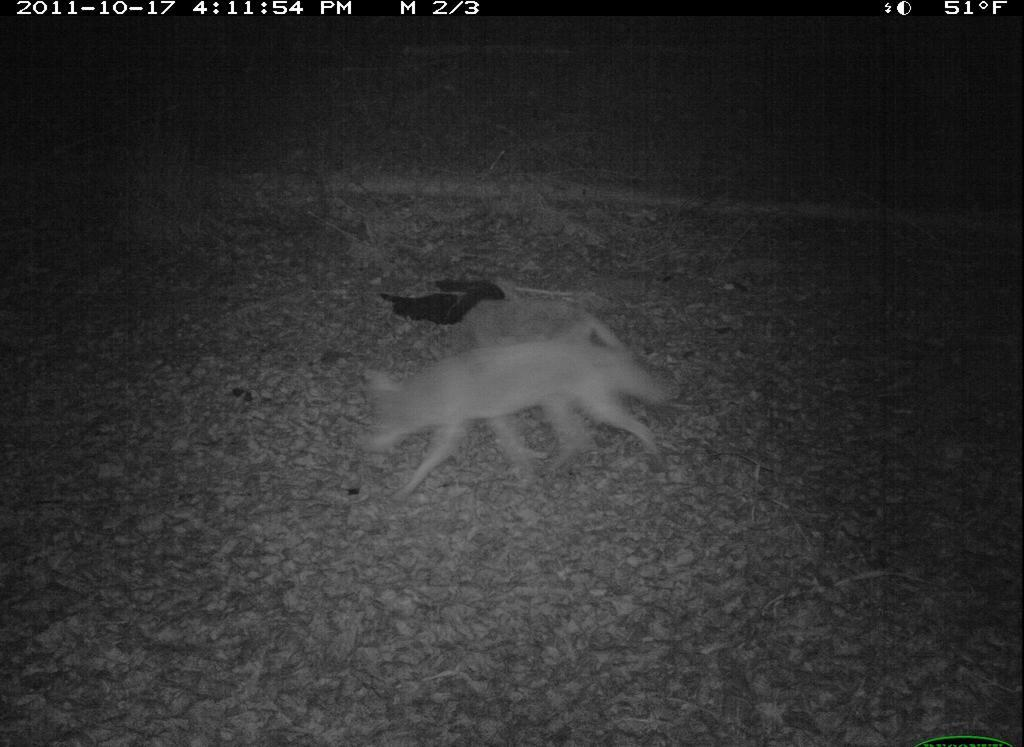coyote: (356, 338, 683, 510)
